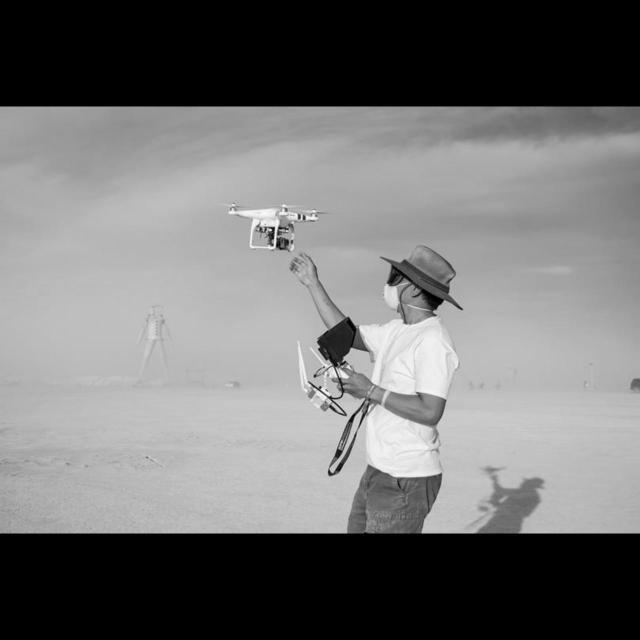Drons: (214, 192, 332, 258)
